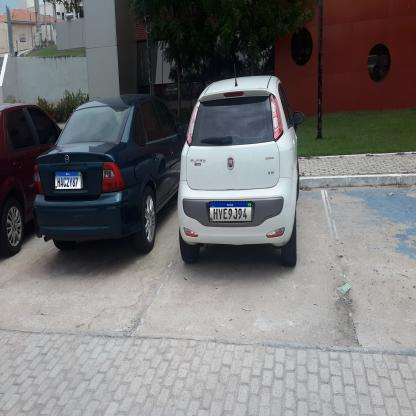PlacaM: (209, 201, 252, 223), (55, 171, 81, 190)
